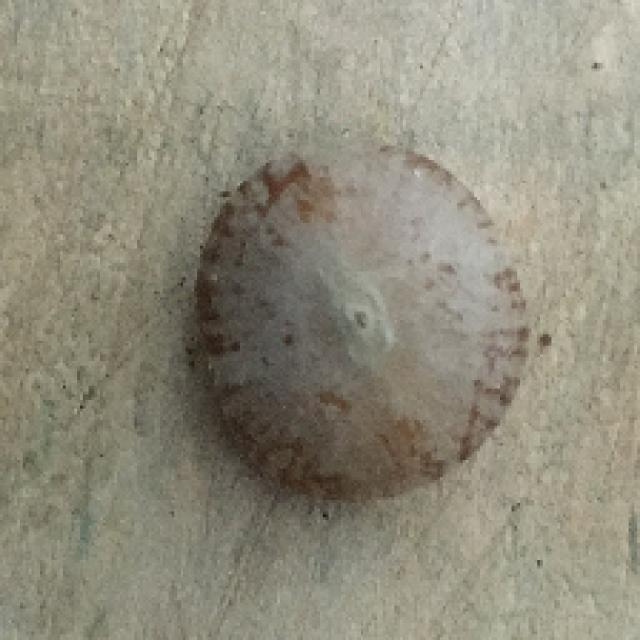qualityHazelnut: (193, 148, 530, 496)
